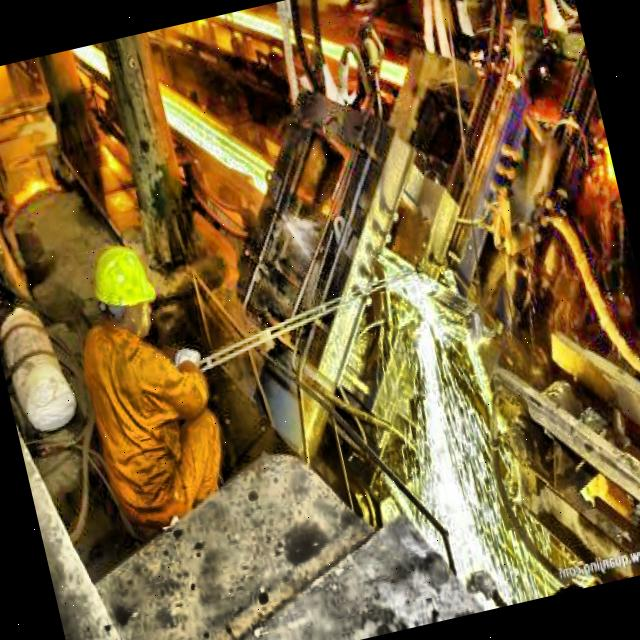helmet: (80, 230, 166, 347)
